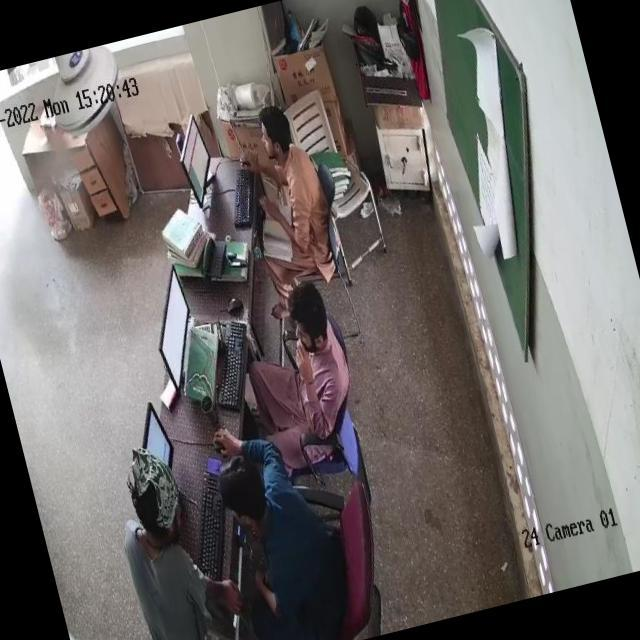person: (201, 424, 344, 622), (105, 449, 226, 640), (238, 278, 354, 440), (238, 98, 336, 274)
